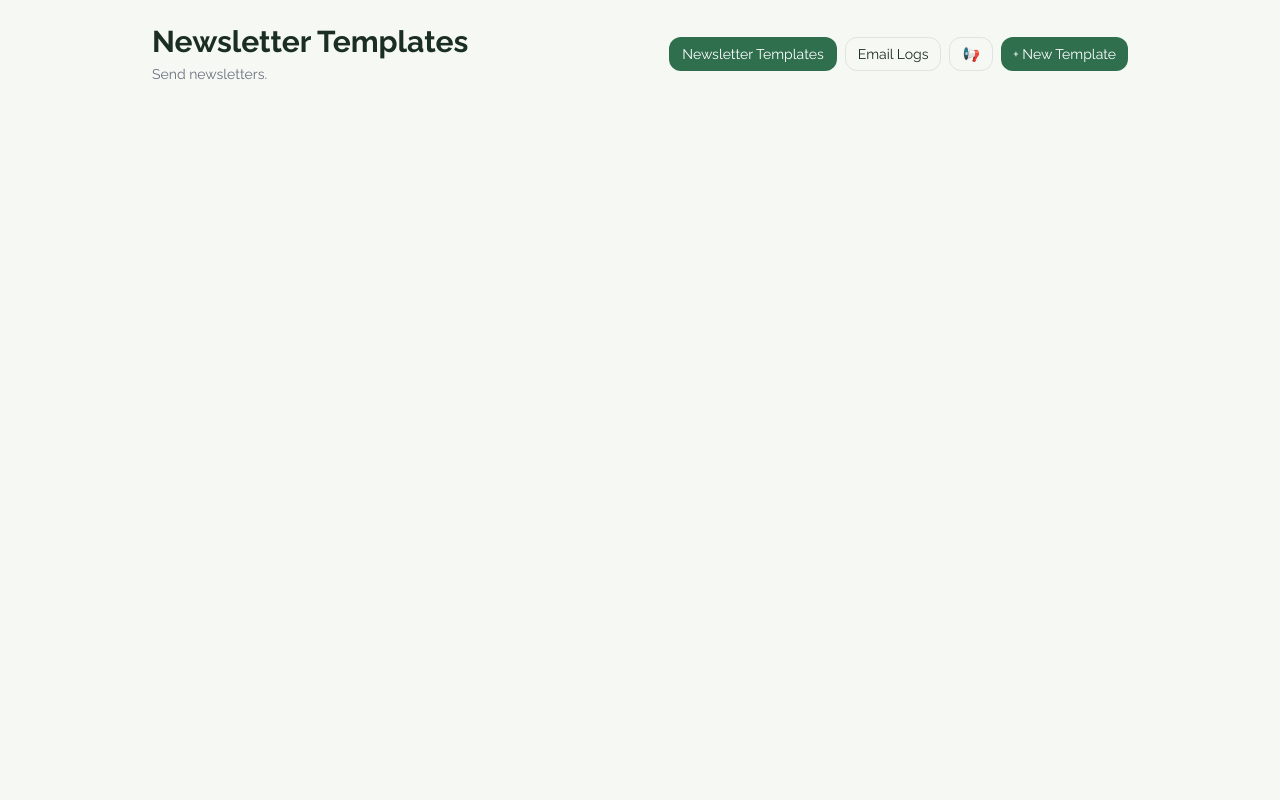
NewsletterPage (template UI) › opens the editor when New Template is clicked
The width and height of the screenshot is (1280, 800).
Click the button with test id "new-template-btn" at coordinates (1064, 54), box [1001,37,1128,71]
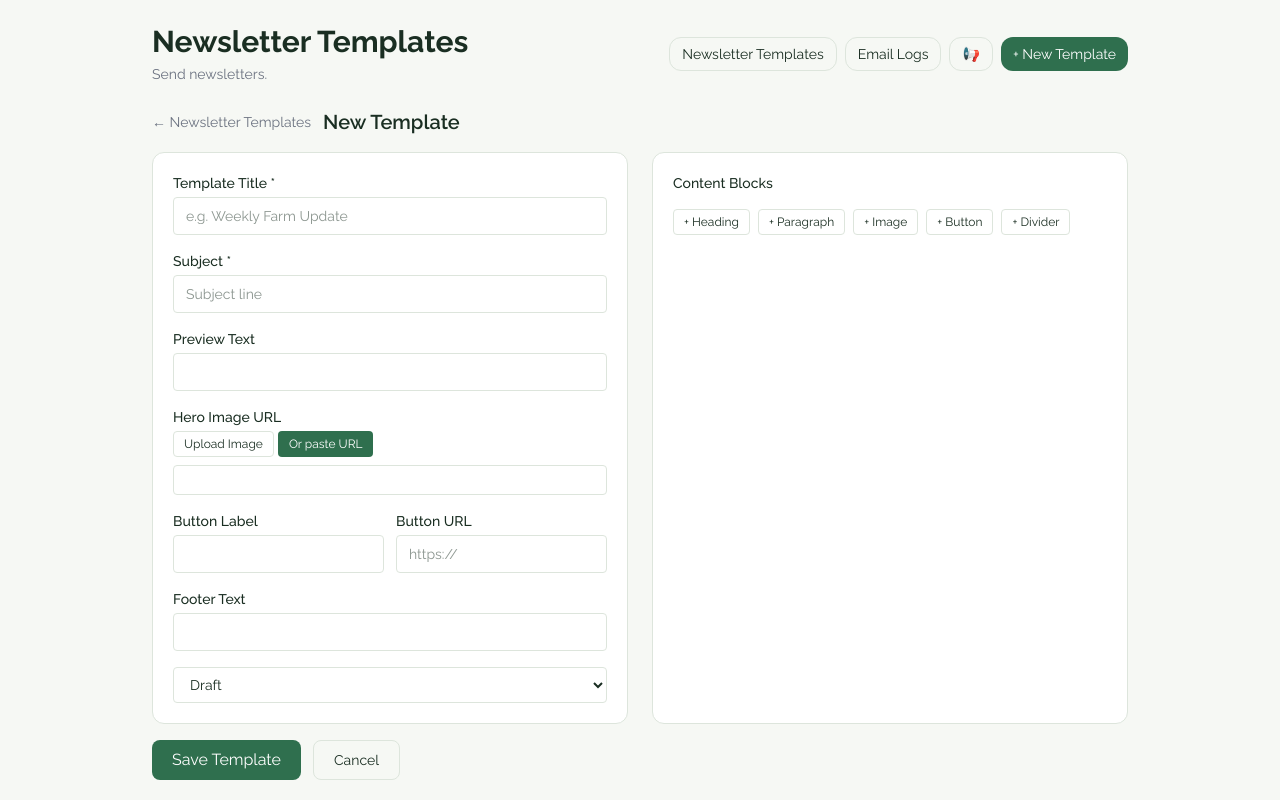
Expected: the element with test id "template-editor" is shown
